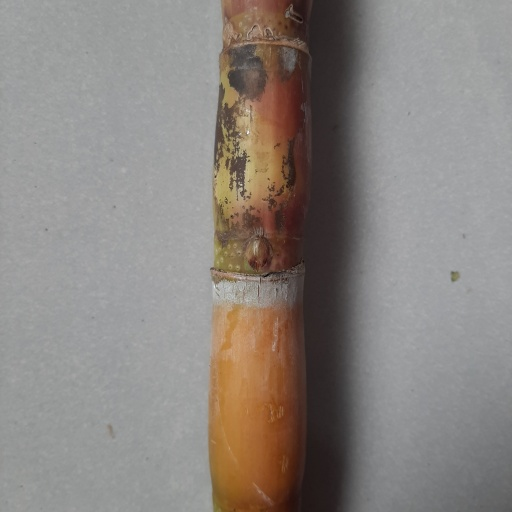Bud: (244, 237, 274, 274)
